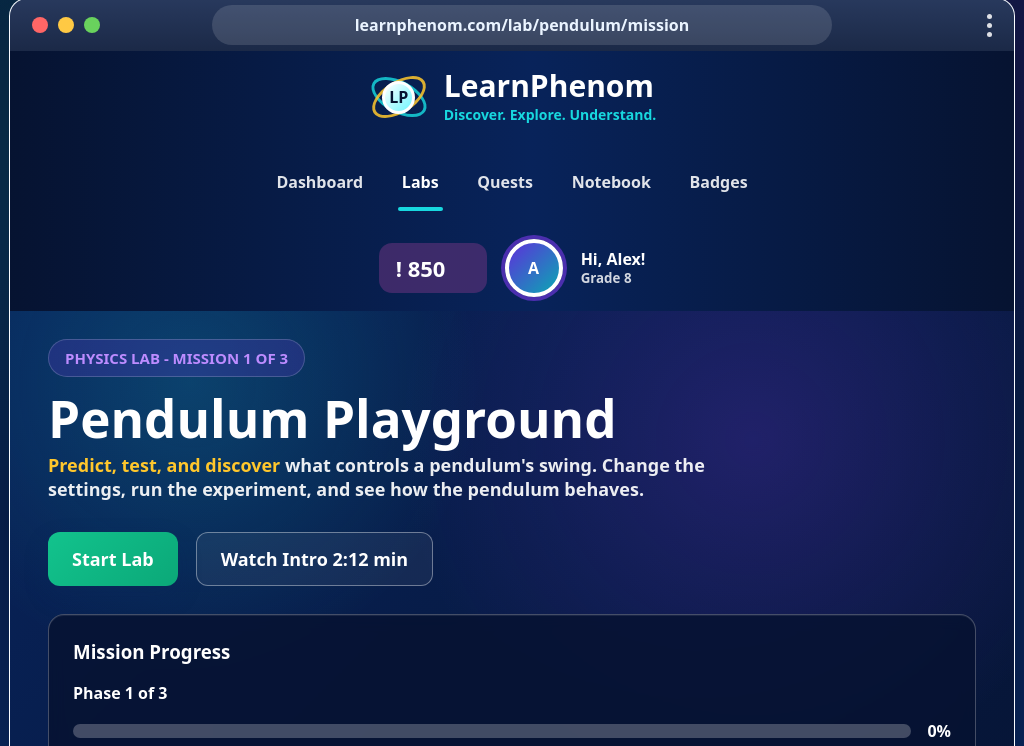
it: PendulumLab › opens completed secondary action dialogs
Click the button "Watch Intro 2:12 min". click: [314, 559]
box: x1=196 y1=532 x2=433 y2=586
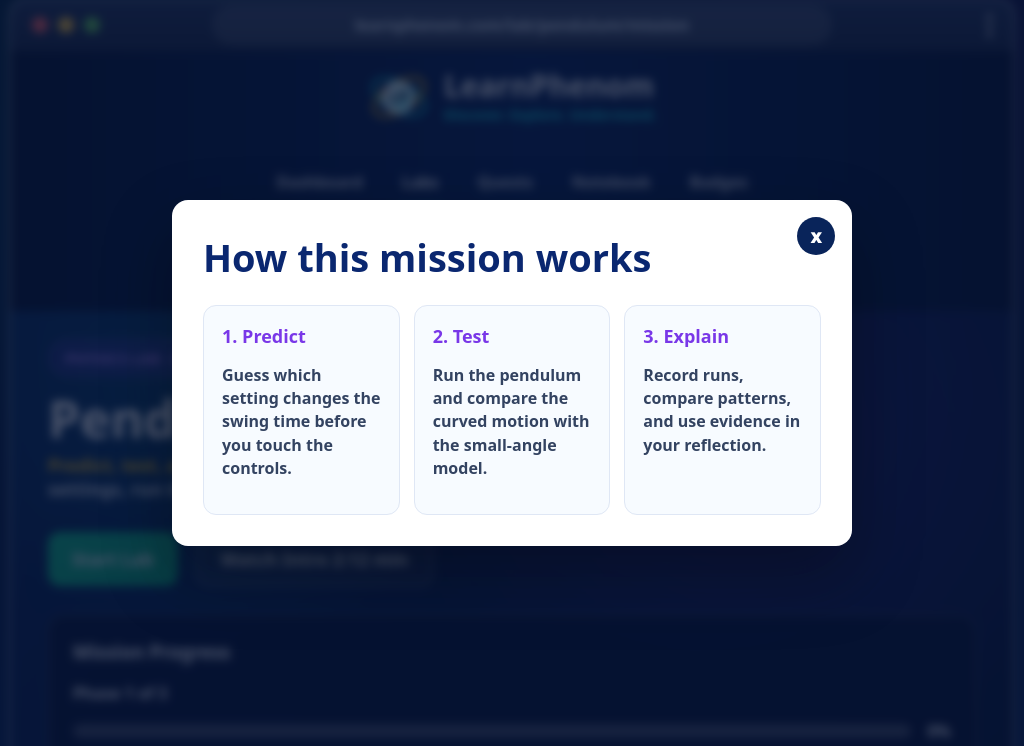
Now the dialog "How this mission works" is shown, box x1=172 y1=200 x2=852 y2=546
Click the button named "Close dialog". click: [816, 236]
box: x1=797 y1=217 x2=835 y2=255
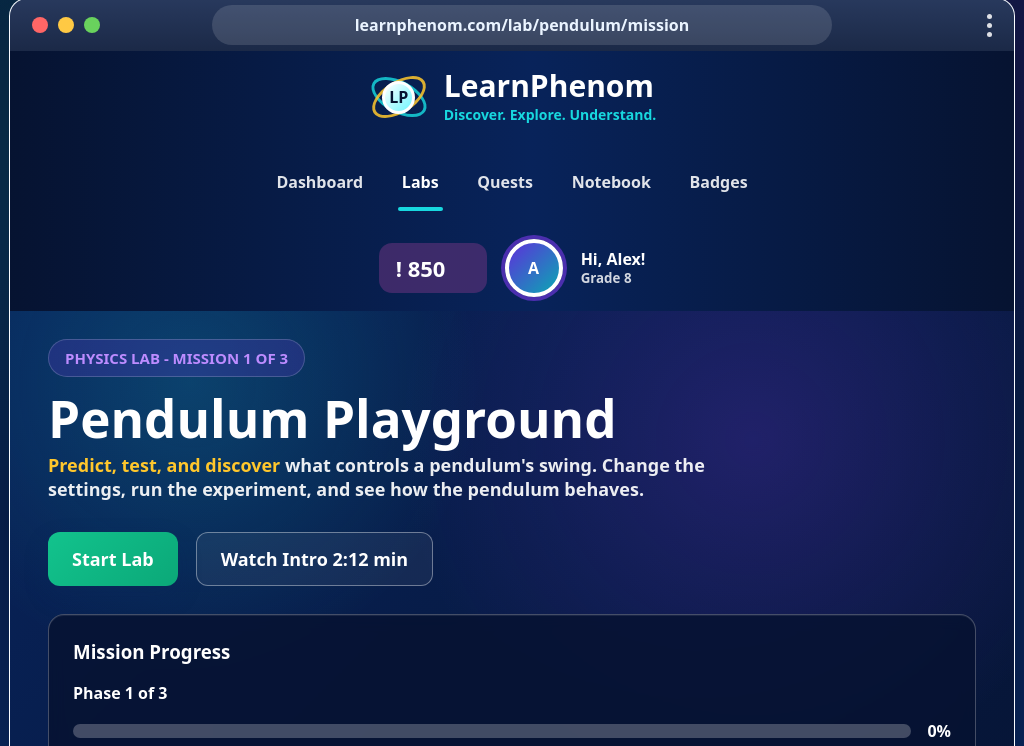
Click the button "Start Lab". click: [113, 559]
box: x1=48 y1=532 x2=178 y2=586
(page scrolled)
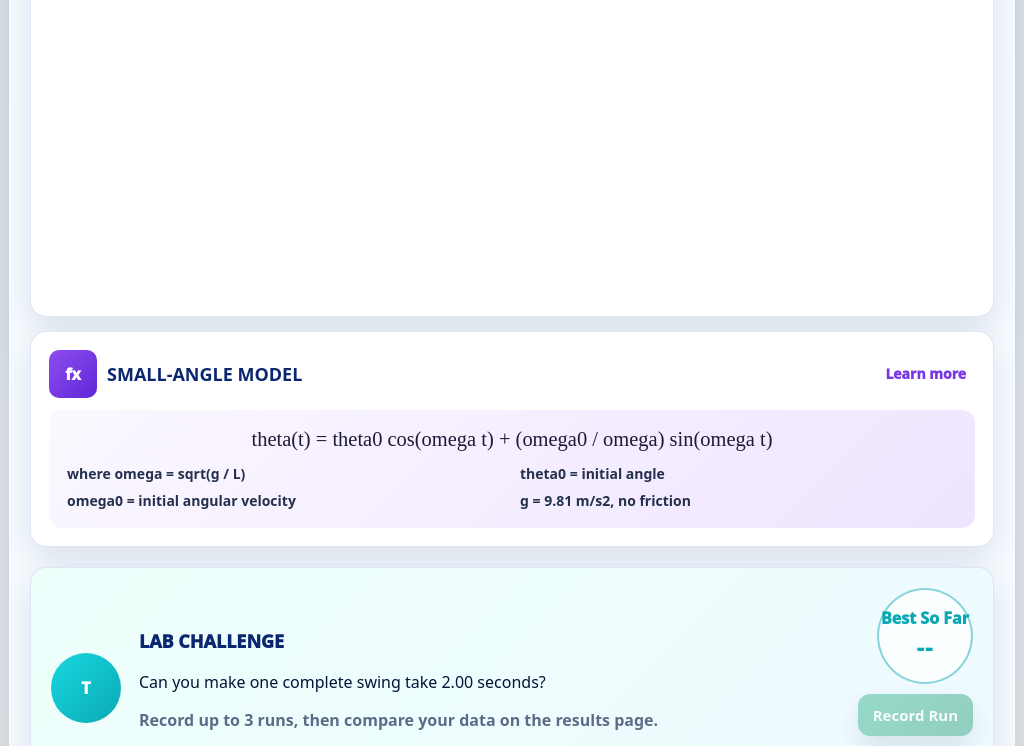
Click the button "Learn more". click: [926, 374]
box: x1=876 y1=357 x2=975 y2=390
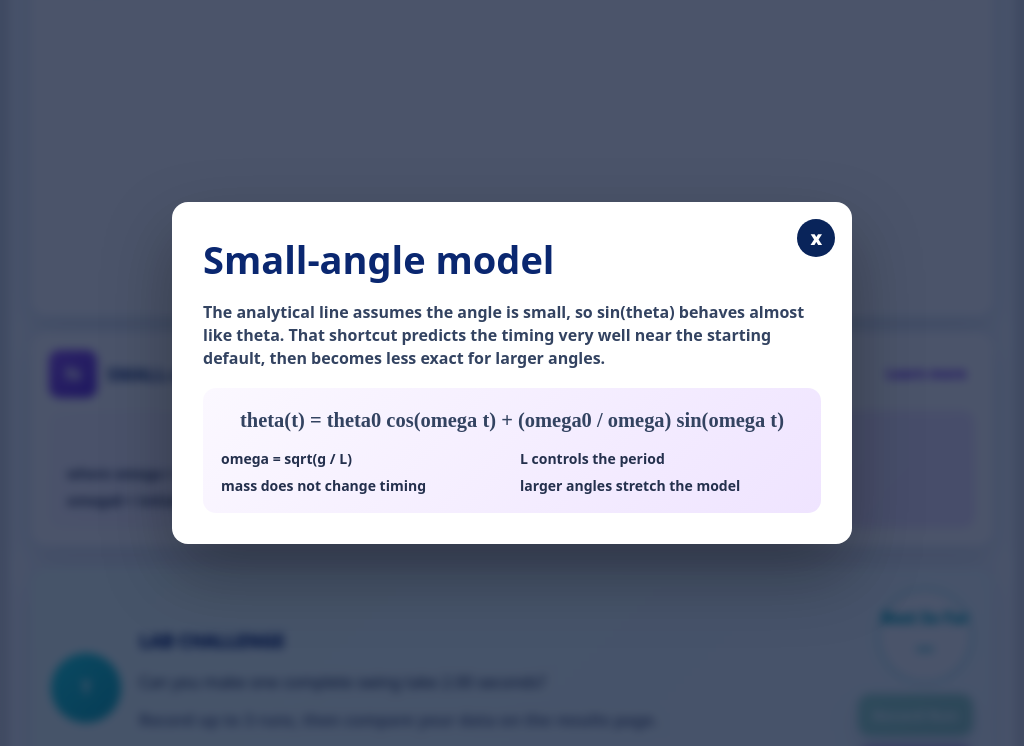
Now the dialog "Small-angle model" is shown, box x1=172 y1=202 x2=852 y2=544
